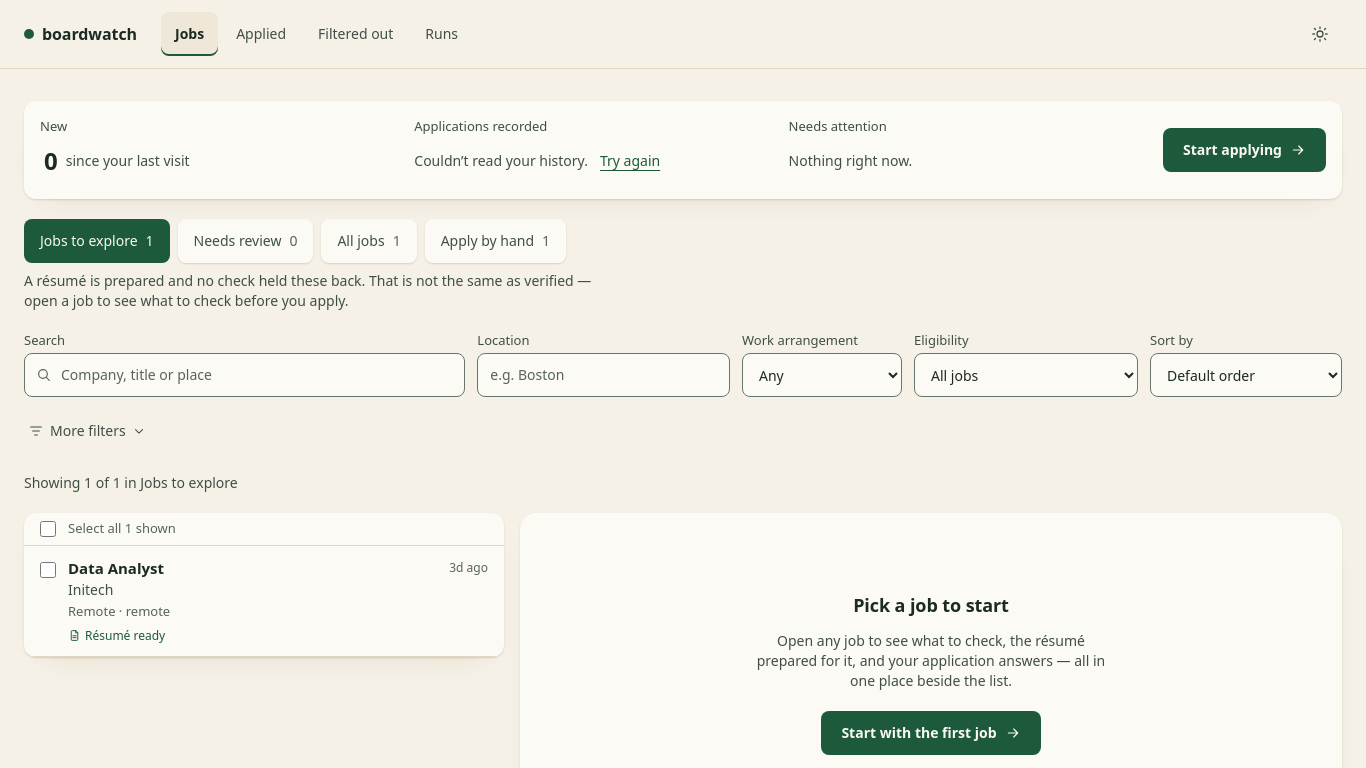
Apply by hand › asks "Did you apply?" after a manual lead's apply page was opened — the list exists for that
Click the button "Apply by hand 1" at (495, 241), box [425,219,566,263]
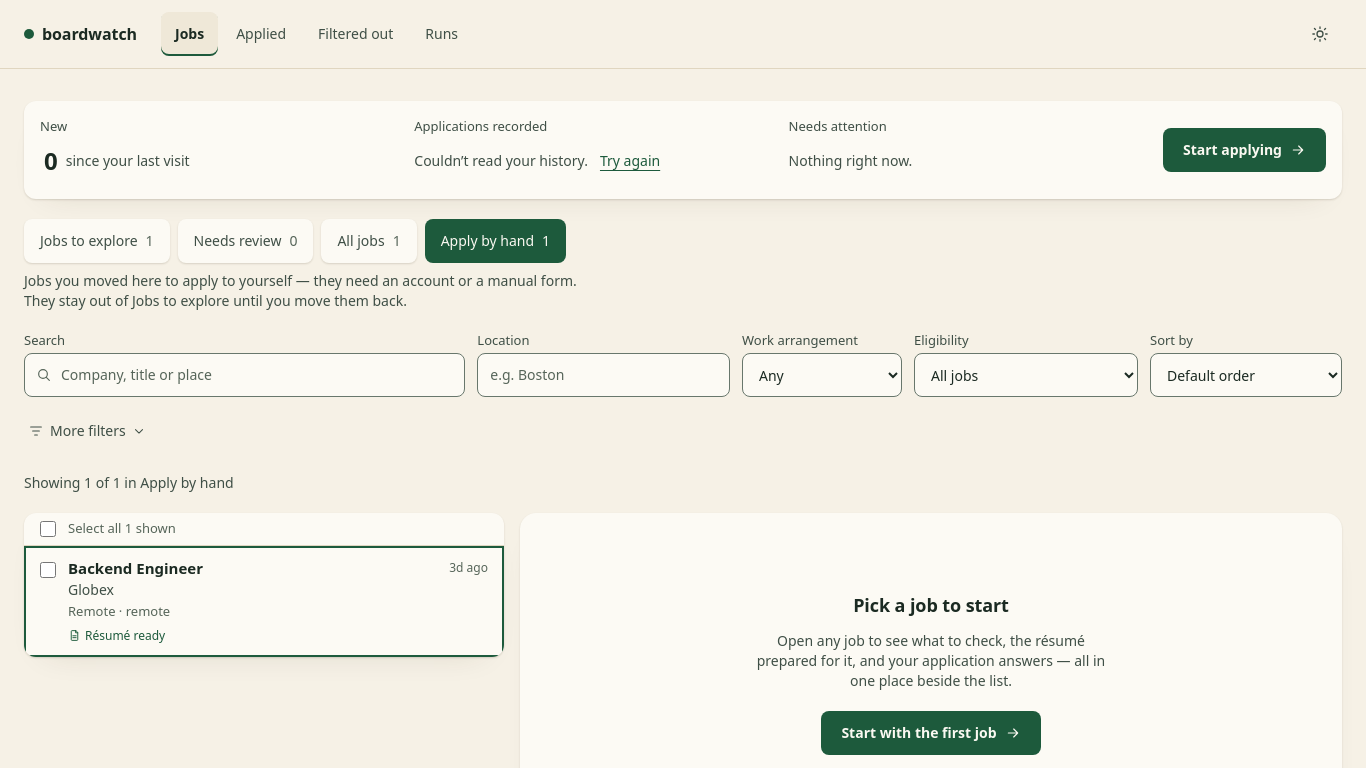
Press o in the row "Backend Engineer Globex 3d ago Remote · remote Résumé ready", box [24,546,504,657]
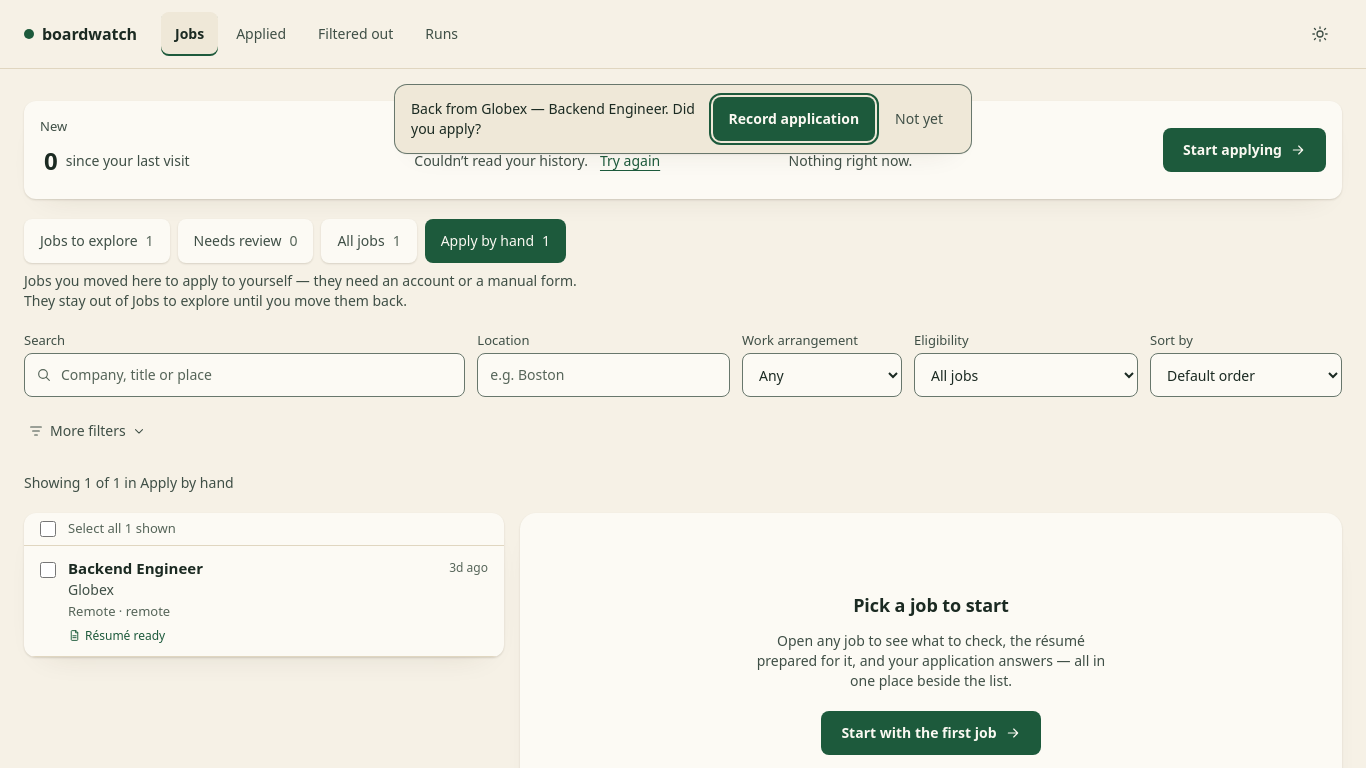
expect the dialog "Did you apply?" is shown: met, box [395,85,971,153]
